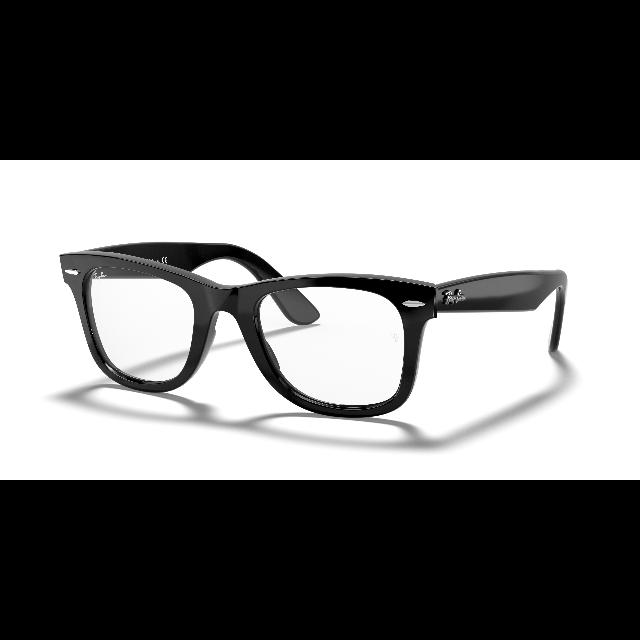glasses: (51, 233, 572, 419)
